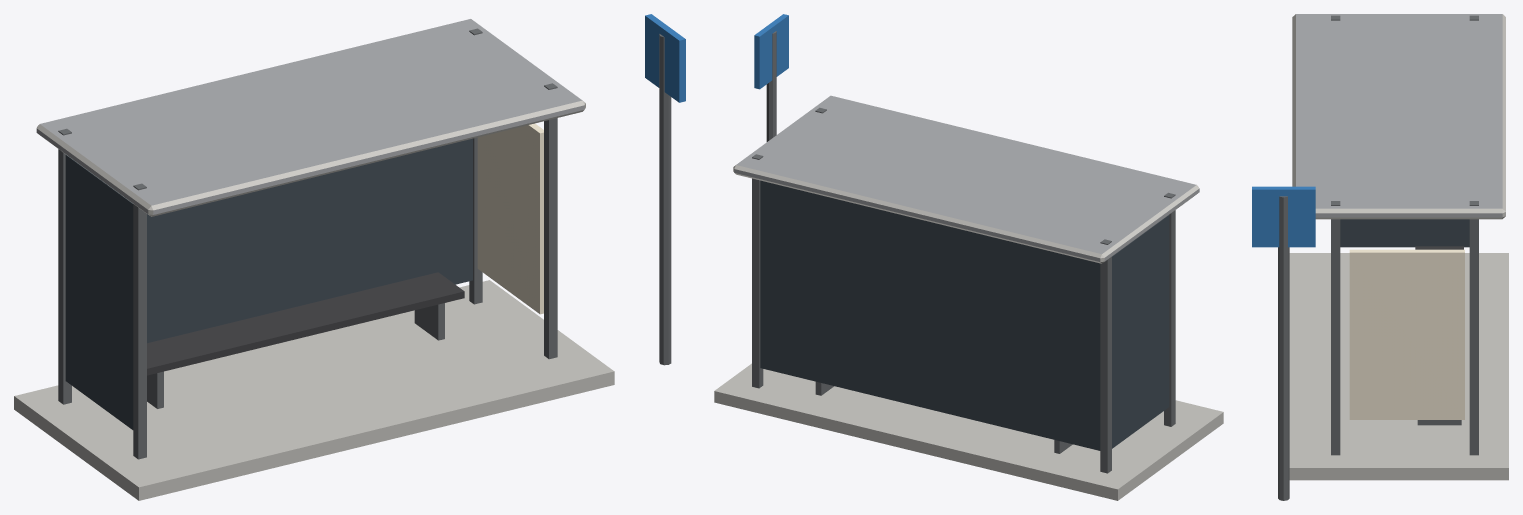
File: bus_stop.glb
3 views of the same model, side by side, from view 1: azimuth 30°, elevation 25°; view 2: azimuth 150°, elevation 25°; view 3: azimuth 270°, elevation 25° (orthographic). The views are drawn at different scales.
Visible parts, largest first — view 1: bus_stop; view 2: bus_stop; view 3: bus_stop.
Part boxes in pixels (x1,y1,x2,y2): bus_stop: (14,14,685,500); bus_stop: (714,14,1223,500); bus_stop: (1252,14,1508,500).
Bounding box in the file's own units: 4.95 × 3.03 × 2.23.
